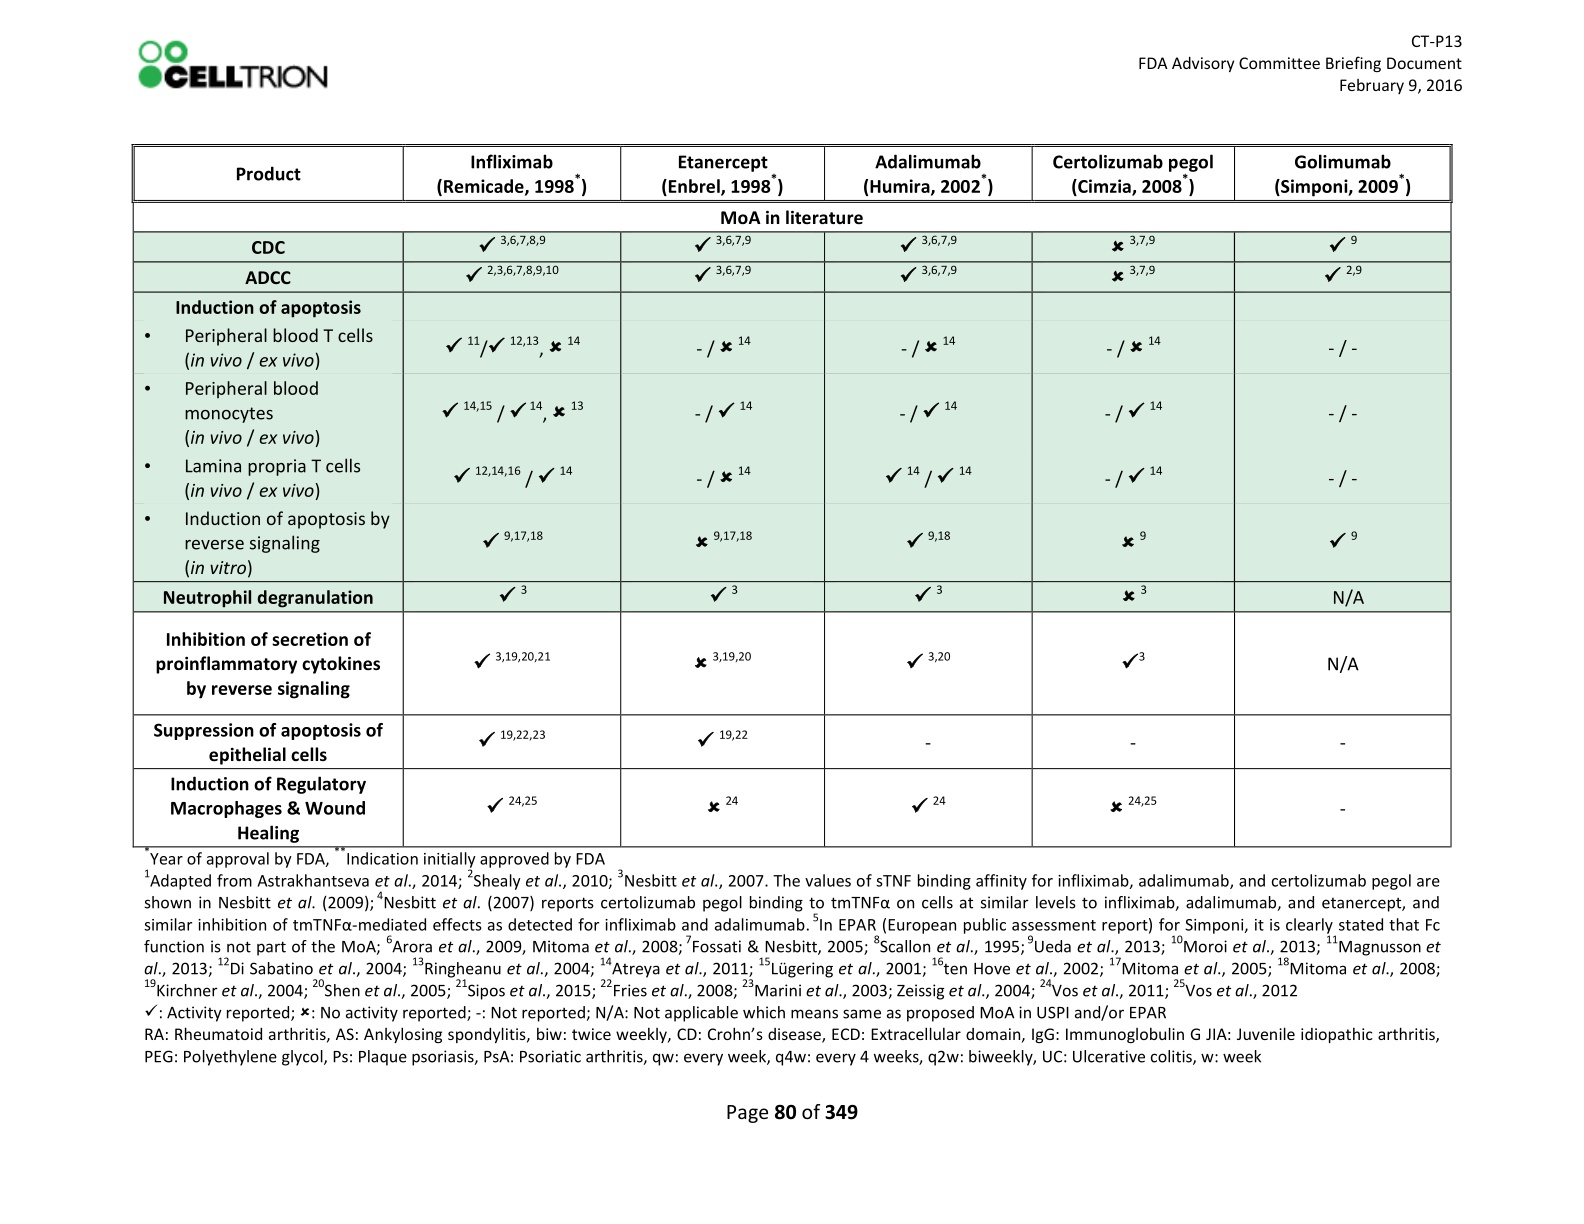merged_cells: (131, 144, 1453, 849)
